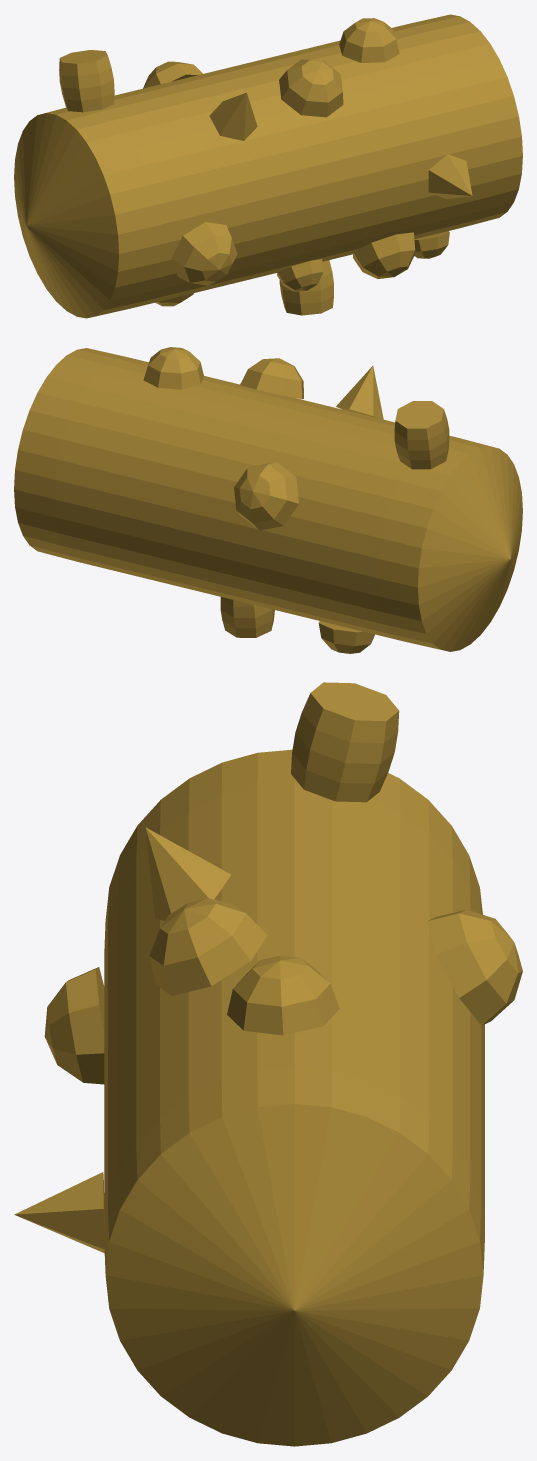
The model's file is exp1_ovoid_cylinder_asym_01.glb.
The picture shows the model from 3 angles, top to bottom: view 1: azimuth 30°, elevation 25°; view 2: azimuth 150°, elevation 25°; view 3: azimuth 270°, elevation 25°; orthographic projection. The views are drawn at different scales.
Parts seen in each view (by area): view 1: exp1_ovoid_cylinder_asym_01; view 2: exp1_ovoid_cylinder_asym_01; view 3: exp1_ovoid_cylinder_asym_01.
Boxes of the visible parts, x1=… form: exp1_ovoid_cylinder_asym_01: x1=14, y1=14, x2=522, y2=318; exp1_ovoid_cylinder_asym_01: x1=14, y1=347, x2=522, y2=653; exp1_ovoid_cylinder_asym_01: x1=14, y1=682, x2=522, y2=1446.
Bounding box in the file's own units: 3.44 × 1.94 × 1.74.
